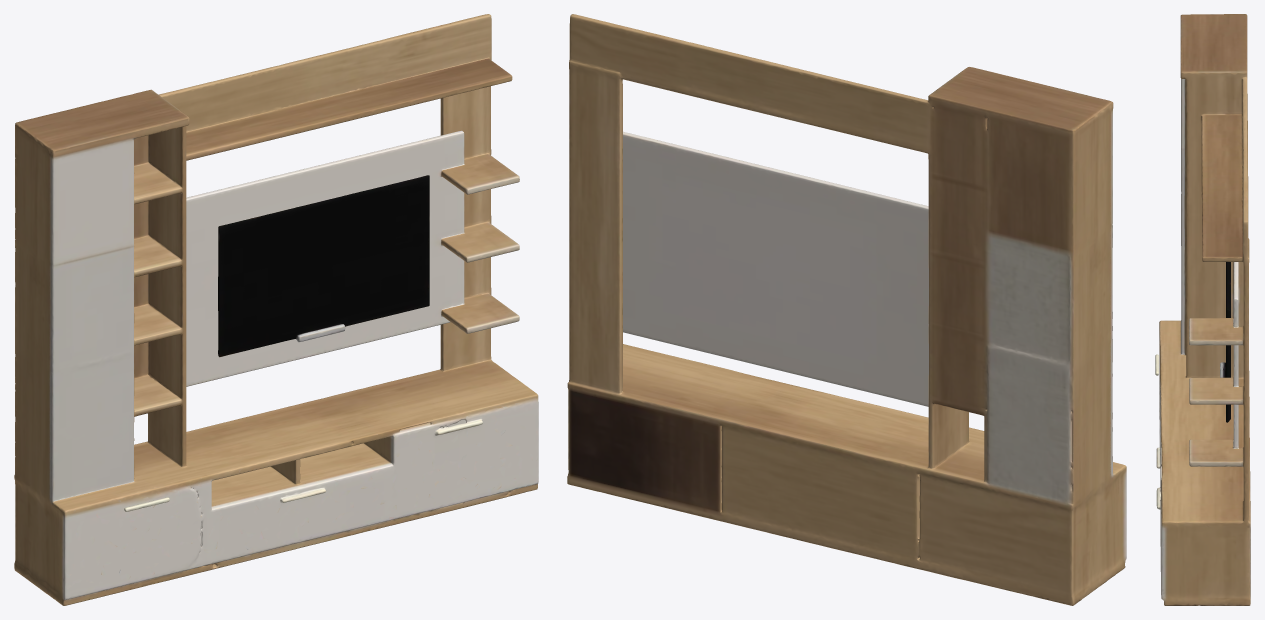
Rendered from 03_tv-stand_35.glb.
The picture shows the model from 3 angles, left to right: view 1: azimuth 30°, elevation 25°; view 2: azimuth 150°, elevation 25°; view 3: azimuth 270°, elevation 25°; orthographic projection. The views are drawn at different scales.
Visible parts, largest first — view 1: world; view 2: world; view 3: world.
Boxes of the visible parts, x1=… form: world: x1=14, y1=14, x2=538, y2=605; world: x1=567, y1=14, x2=1126, y2=605; world: x1=1155, y1=14, x2=1250, y2=605.
Size of the model in its own units: 1 by 0.9041 by 0.1999.
1 material, 1 textured.
